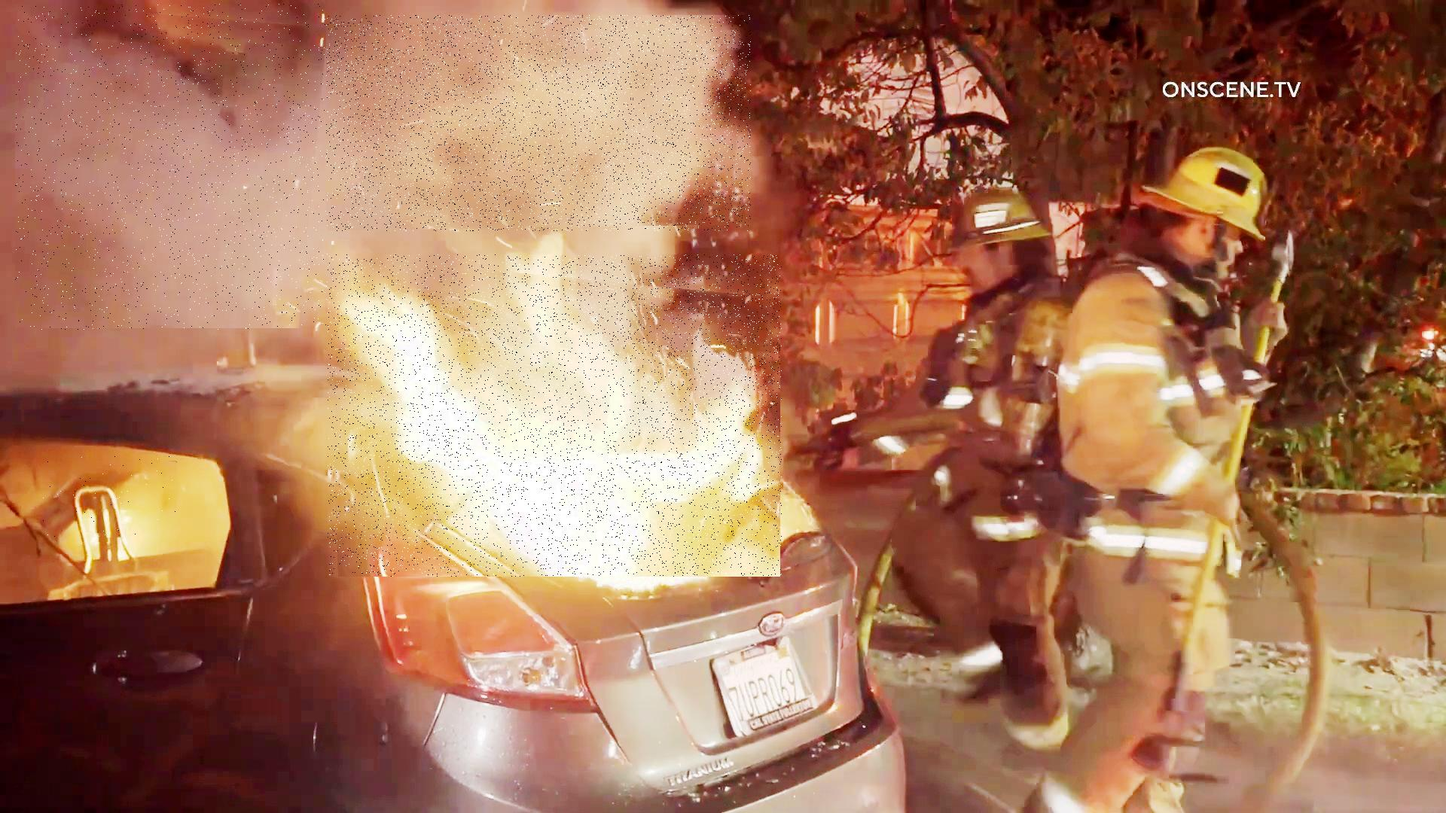fire: (328, 255, 782, 577), (38, 454, 177, 538)
smoke: (15, 4, 328, 330), (326, 15, 751, 231)
